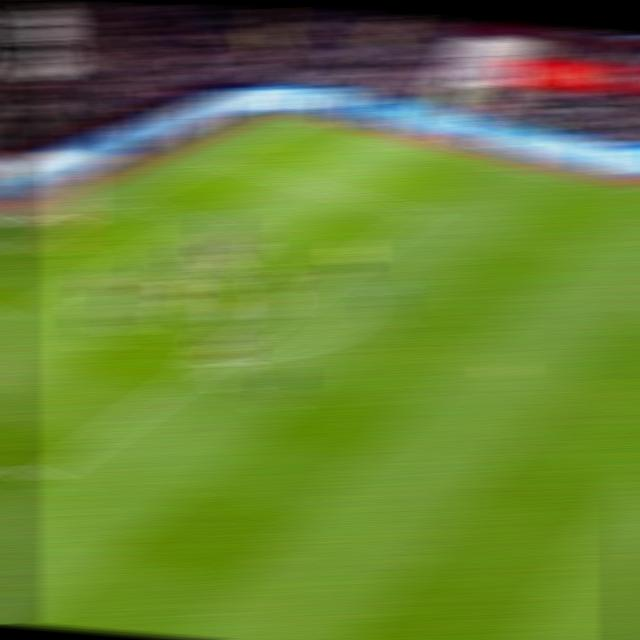bigarea_bottom_inner: (21, 462, 65, 493)
bigarea_top_inner: (405, 203, 442, 226)
bigarea_top_outter: (198, 151, 235, 171)
bottom_arc_area_intersection: (191, 350, 226, 373)
corner: (290, 112, 329, 127)
smallarea_top_inner: (180, 211, 217, 234)
smallarea_top_outter: (110, 190, 148, 211)
top_arc_area_intersection: (321, 261, 358, 282)
